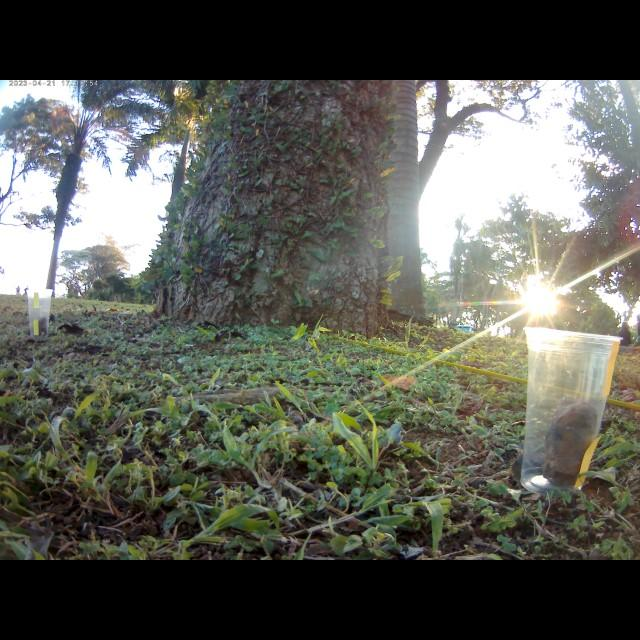arvore: (148, 84, 422, 352)
